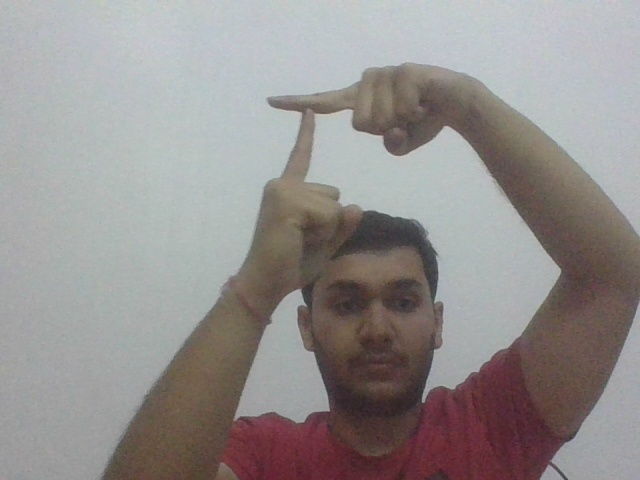T: (258, 80, 349, 178)
